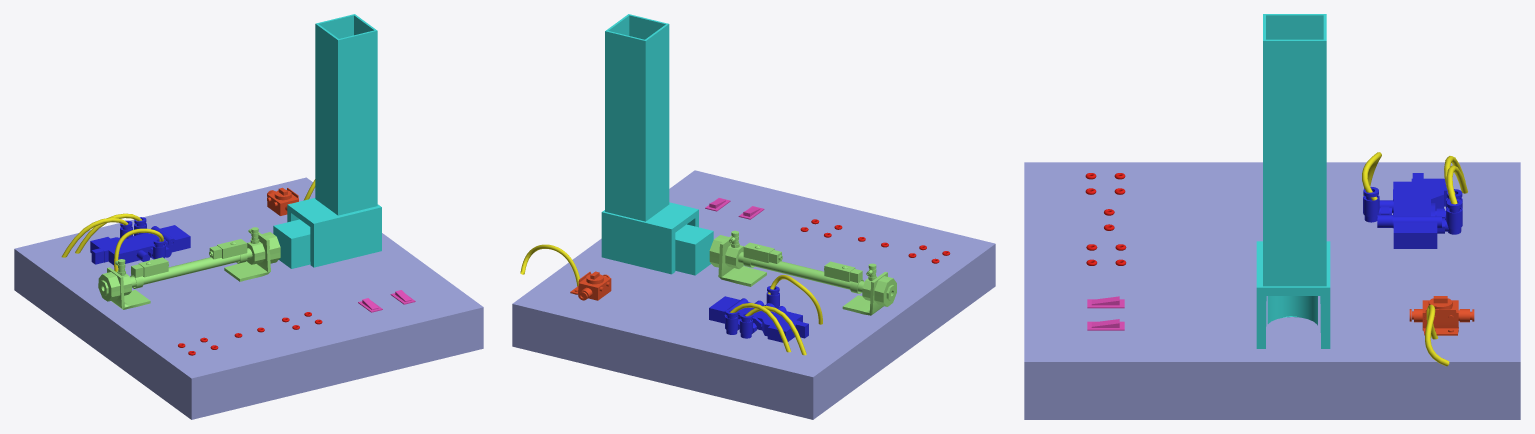
Rendered from mesaA UV.fbx.
3 renders of one model, left to right at view 1: azimuth 30°, elevation 25°; view 2: azimuth 150°, elevation 25°; view 3: azimuth 270°, elevation 25°, orthographic. The views are drawn at different scales.
Visible parts, largest first — view 1: pasted__mesa_A, pasted__pasted__pasted__pCube44, pasted__polySurface53.001, polySurface3, pasted__pCube38, pasted__pasted__polySurface3, pasted__polySurface89; view 2: pasted__mesa_A, pasted__pasted__pasted__pCube44, pasted__polySurface53.001, polySurface3, pasted__pCube38, pasted__pasted__polySurface3, pasted__polySurface89, pasted__pasted__defaultBrush2Main; view 3: pasted__mesa_A, pasted__pasted__pasted__pCube44, pasted__pCube38, polySurface3, pasted__polySurface89, pasted__pasted__polySurface3, pasted__input_3_mesa_B_lado_E4, pasted__pasted__defaultBrush2Main.
Boxes of the visible parts, x1=… form: pasted__mesa_A: x1=14, y1=177, x2=483, y2=419; pasted__pasted__pasted__pCube44: x1=315, y1=14, x2=377, y2=215; pasted__polySurface53.001: x1=98, y1=227, x2=280, y2=309; polySurface3: x1=287, y1=198, x2=381, y2=267; pasted__pCube38: x1=90, y1=217, x2=190, y2=265; pasted__pasted__polySurface3: x1=273, y1=219, x2=310, y2=268; pasted__polySurface89: x1=267, y1=187, x2=298, y2=215; pasted__mesa_A: x1=512, y1=170, x2=995, y2=419; pasted__pasted__pasted__pCube44: x1=605, y1=14, x2=669, y2=221; pasted__polySurface53.001: x1=709, y1=230, x2=896, y2=315; polySurface3: x1=601, y1=202, x2=698, y2=274; pasted__pCube38: x1=709, y1=286, x2=808, y2=342; pasted__pasted__polySurface3: x1=675, y1=224, x2=713, y2=275; pasted__polySurface89: x1=570, y1=271, x2=611, y2=300; pasted__pasted__defaultBrush2Main: x1=520, y1=244, x2=579, y2=286; pasted__mesa_A: x1=1024, y1=162, x2=1520, y2=419; pasted__pasted__pasted__pCube44: x1=1263, y1=14, x2=1326, y2=286; pasted__pCube38: x1=1363, y1=173, x2=1462, y2=248; polySurface3: x1=1256, y1=241, x2=1330, y2=348; pasted__polySurface89: x1=1409, y1=296, x2=1474, y2=335; pasted__pasted__polySurface3: x1=1267, y1=296, x2=1317, y2=325; pasted__input_3_mesa_B_lado_E4: x1=1085, y1=173, x2=1126, y2=265; pasted__pasted__defaultBrush2Main: x1=1425, y1=304, x2=1449, y2=366.
Size of the model in its own units: 31.52 by 25.15 by 31.
